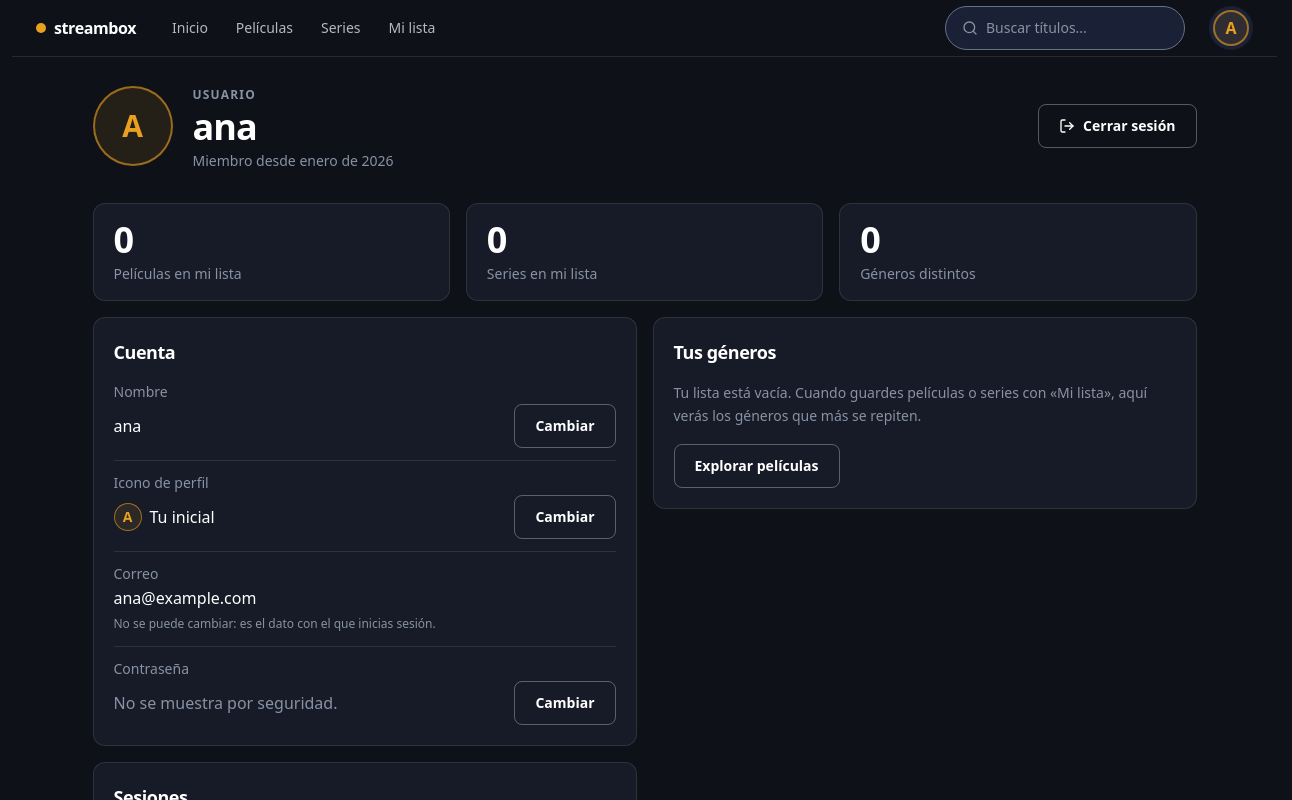
Test: Ruta del perfil › «Cerrar sesión» desde el perfil lleva al login
Click the button "Cerrar sesión". click: point(1117, 126)
box: [1038,104,1196,148]
(page scrolled)
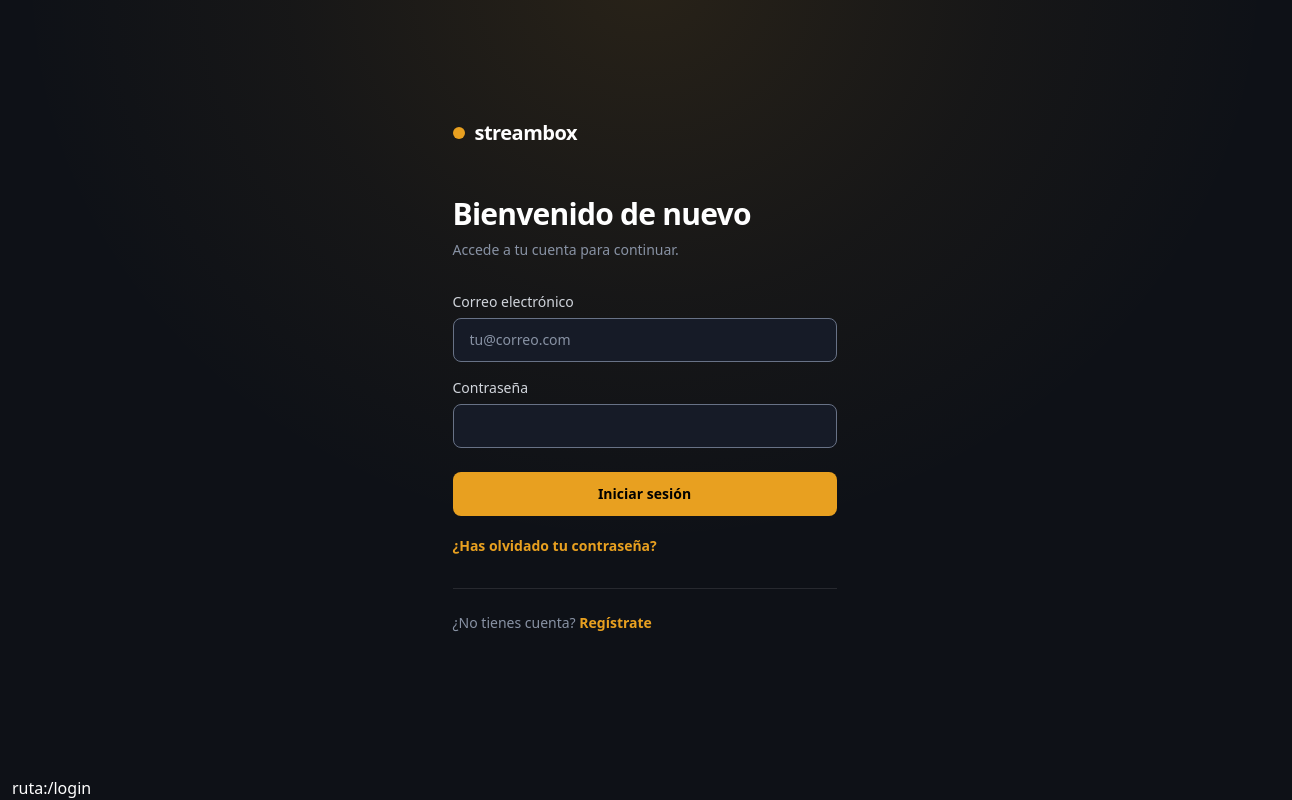
Expected: the text "ruta:/login" is shown, [12,777,91,799]
